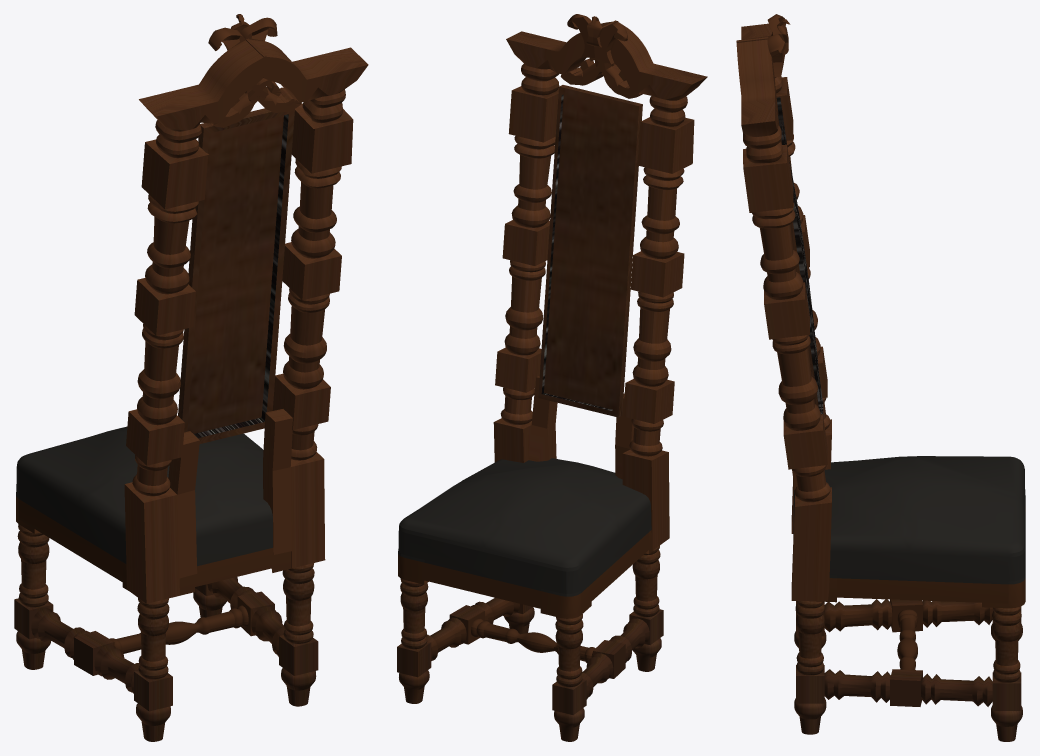
The model's file is stul_2.fbx.
The picture shows the model from 3 angles, left to right: view 1: azimuth 30°, elevation 25°; view 2: azimuth 150°, elevation 25°; view 3: azimuth 270°, elevation 25°; orthographic projection. The views are drawn at different scales.
Visible parts, largest first — view 1: Куб.002; view 2: Куб.002; view 3: Куб.002.
Boxes of the visible parts, x1,y1,x2,y2 form: Куб.002: (14, 14, 368, 741); Куб.002: (397, 14, 707, 741); Куб.002: (736, 14, 1025, 741).
Bounding box in the file's own units: 201 × 648 × 250.
